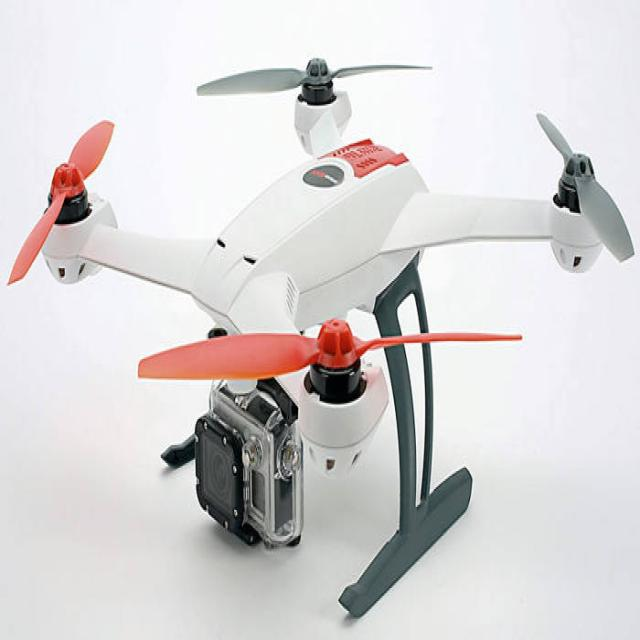drone: (22, 11, 620, 587)
